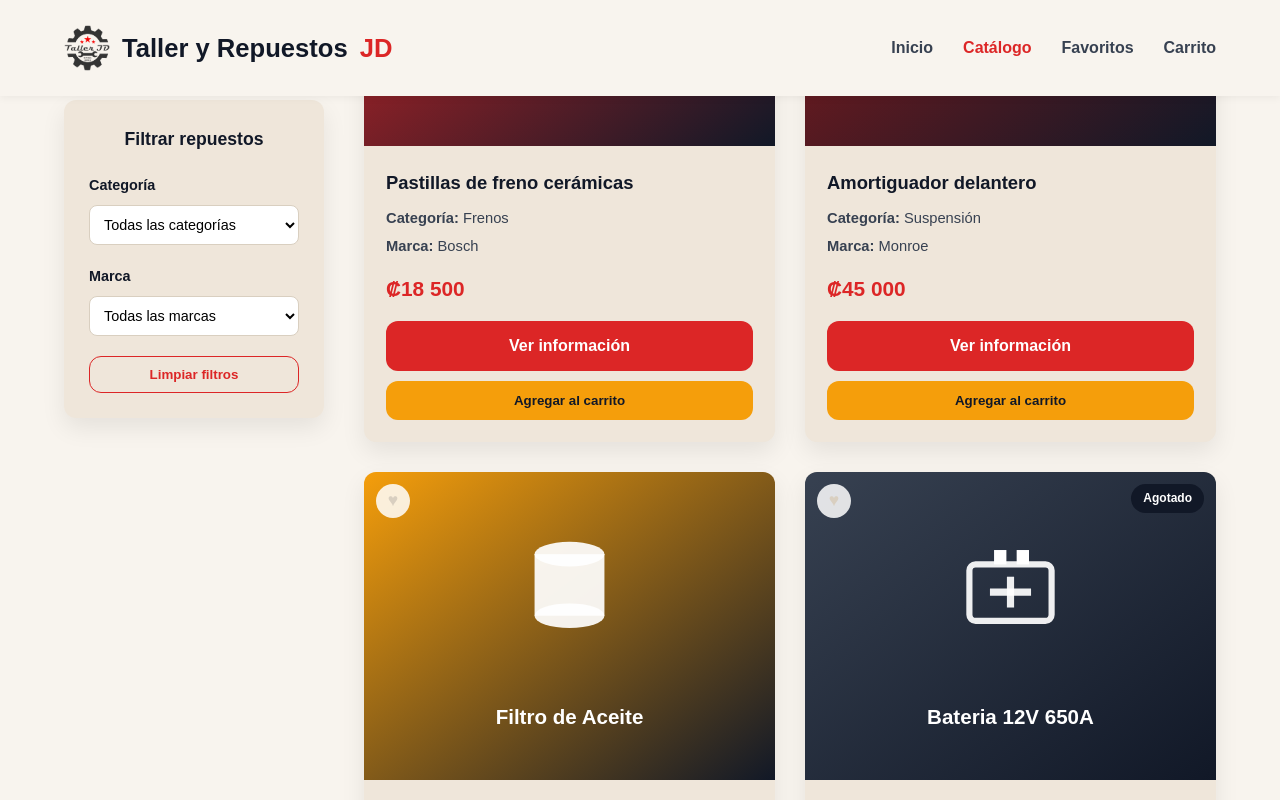
Scenario: Context API: carrito y favoritos › agregar un repuesto actualiza el contador del carrito en el encabezado
(page scrolled)
Expected: the link "Carrito" is shown, [1164,39,1216,56]
Click the button "Agregar al carrito" below "18 500".
click(570, 400)  # box [386,381,753,420]
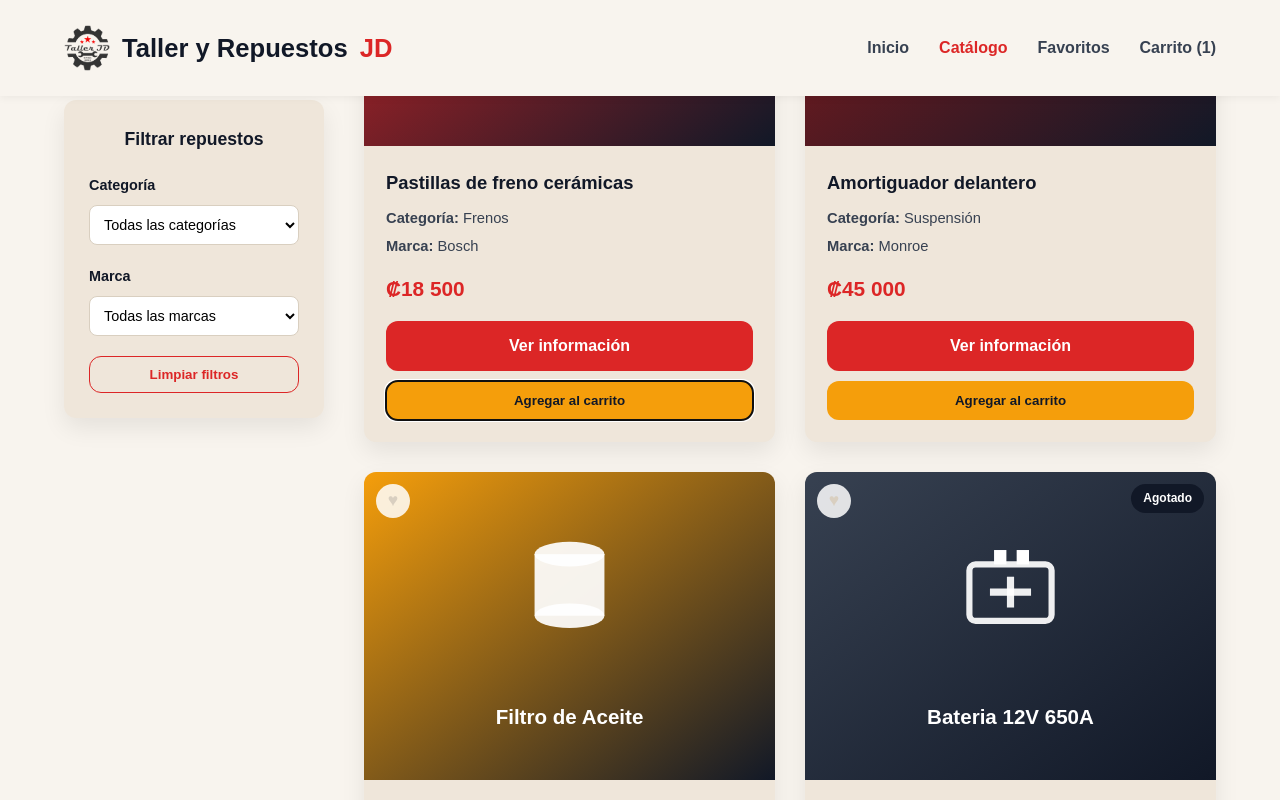
Expected: the link "Carrito (1)" is shown, [1140,39,1216,56]
